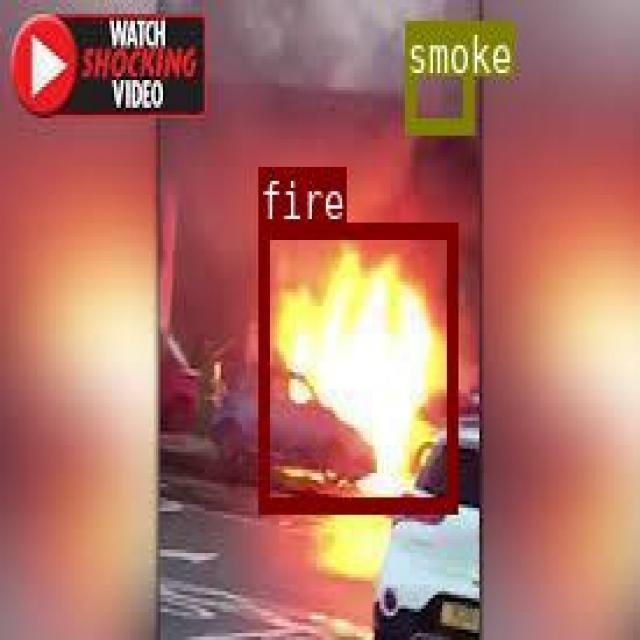fire: (256, 221, 456, 510)
smoke: (404, 18, 471, 130)
